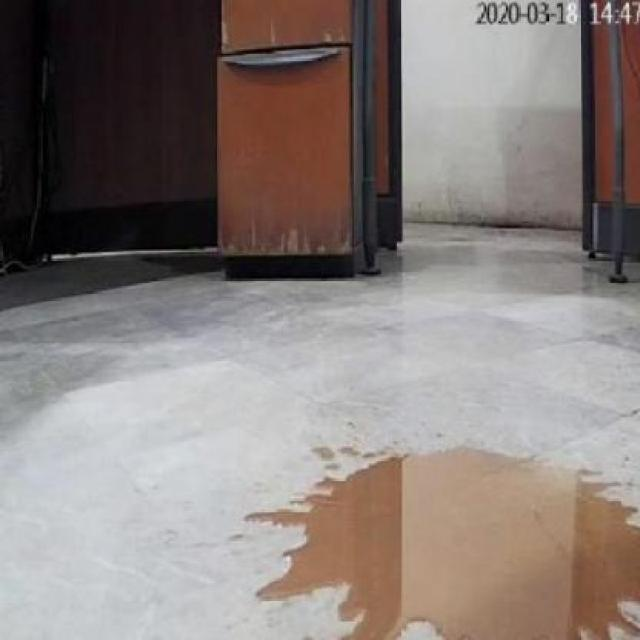spillage: (257, 448, 640, 640)
